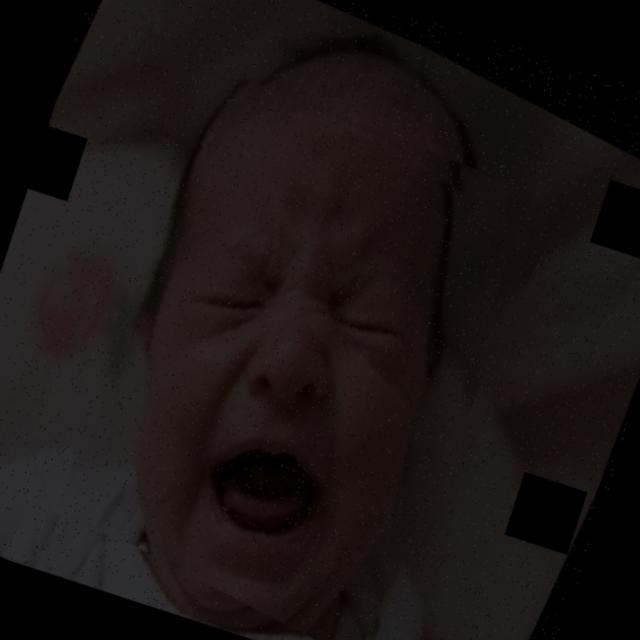Sad: (119, 107, 470, 592)
